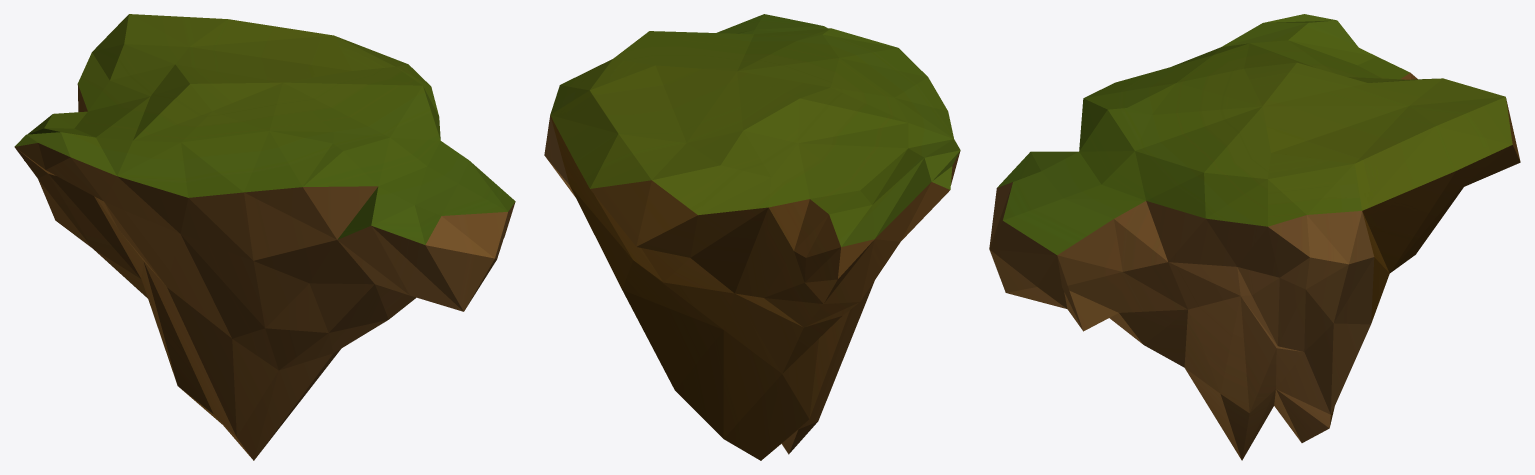
The model's file is floating_rock v3.fbx.
3 views of the same model, side by side, from view 1: azimuth 30°, elevation 25°; view 2: azimuth 150°, elevation 25°; view 3: azimuth 270°, elevation 25° (orthographic). The views are drawn at different scales.
Visible parts, largest first — view 1: rock_1; view 2: rock_1; view 3: rock_1.
Boxes of the visible parts, <box> form: rock_1: <box>14,14,515,460</box>; rock_1: <box>544,14,960,460</box>; rock_1: <box>989,14,1520,460</box>.
Size of the model in its own units: 21484 by 19278 by 24458.
